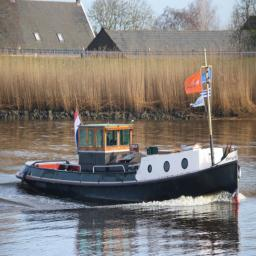tugboat: (15, 118, 245, 212)
